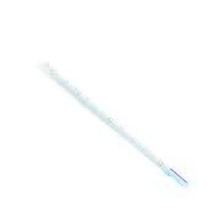drinking_straw: (20, 45, 196, 192)
